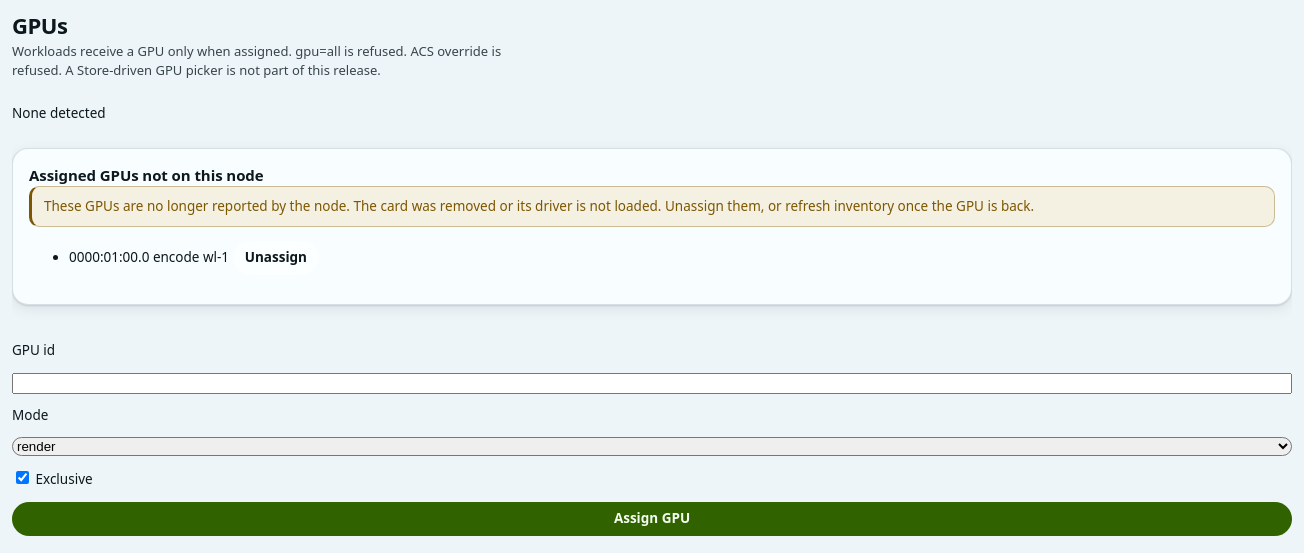
Test: GpuPage › lists a claim on a removed GPU and unassigns it
Check: the heading "Assigned GPUs not on this node" is shown, box [29,165,264,185]
Check: the list item "0000:01:00.0 encode wl-1 Unassign" is shown, box [69,241,319,275]
Click the button "Unassign" at point(276, 258), box [233,241,319,275]
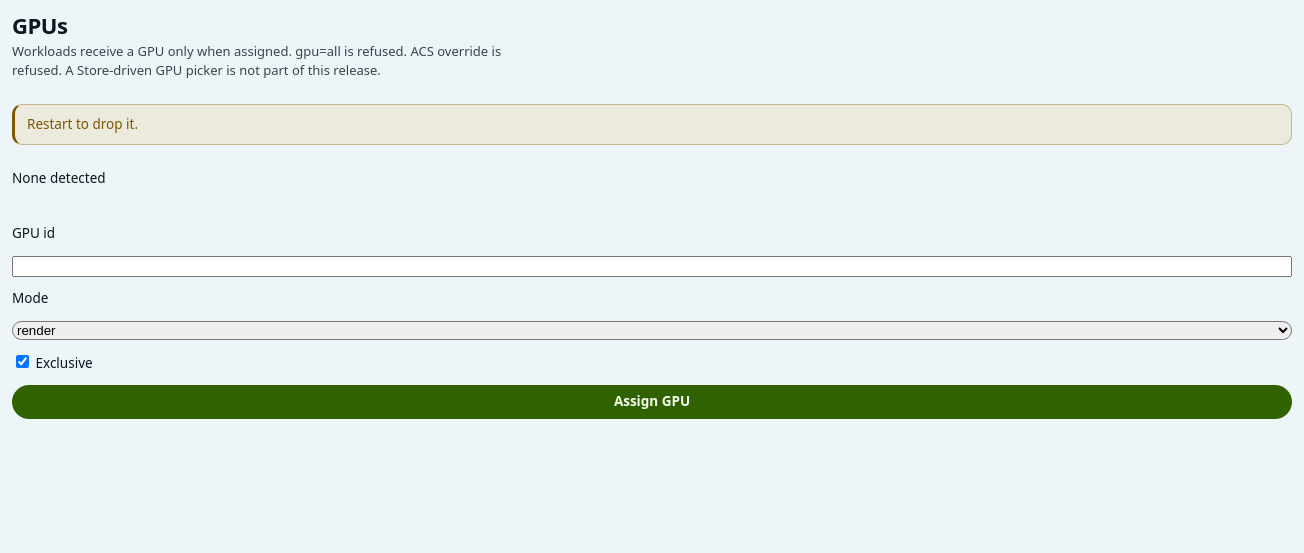
Check: the text "Restart to drop it." is shown, box [12,104,1292,145]
Check: the heading "Assigned GPUs not on this node" is gone
